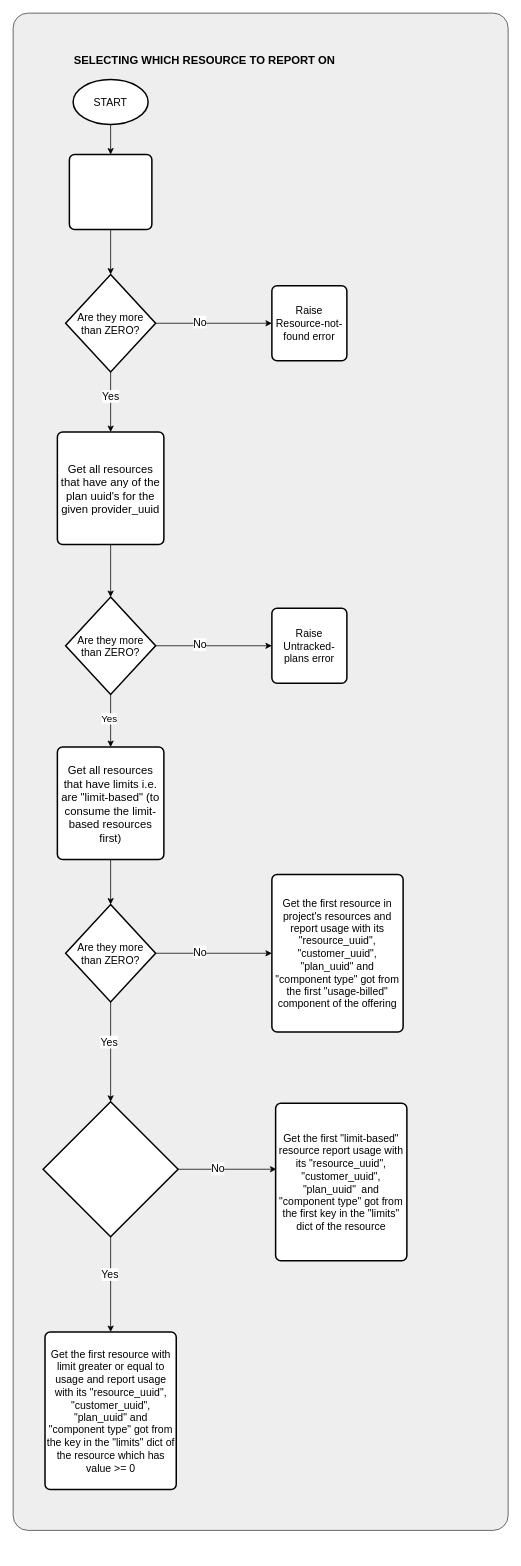
Image size: 521x1566. Some labels were removed from this diagram. The centre of each missing label's shape, as x and y in pixels:
"Get all resources attached to the given project ID" goes at point 110,191.
"Is any of them with a limit greater or equal to the usage amount to be reported?" goes at point 110,1169.
